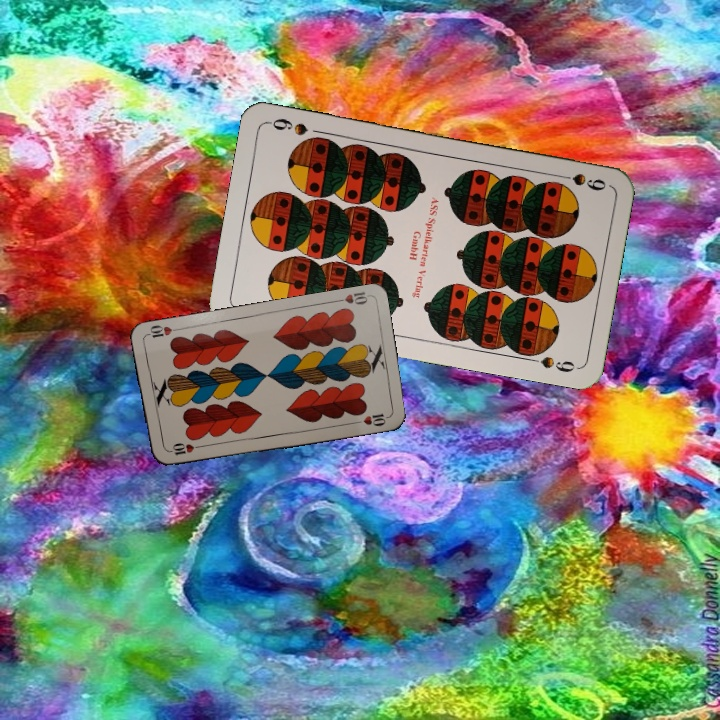H10: (330, 288, 371, 307), (164, 440, 205, 458)
S9: (550, 169, 609, 193)
